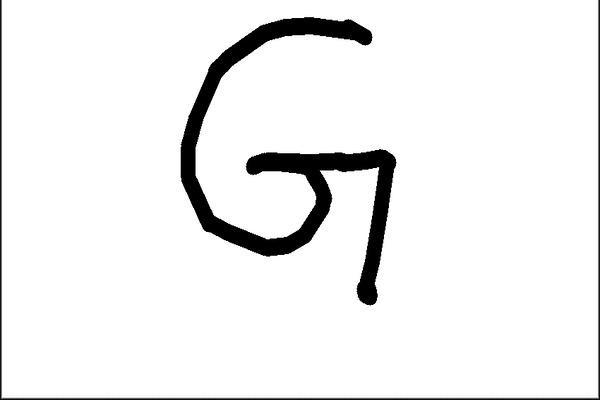G: (172, 11, 401, 315)
